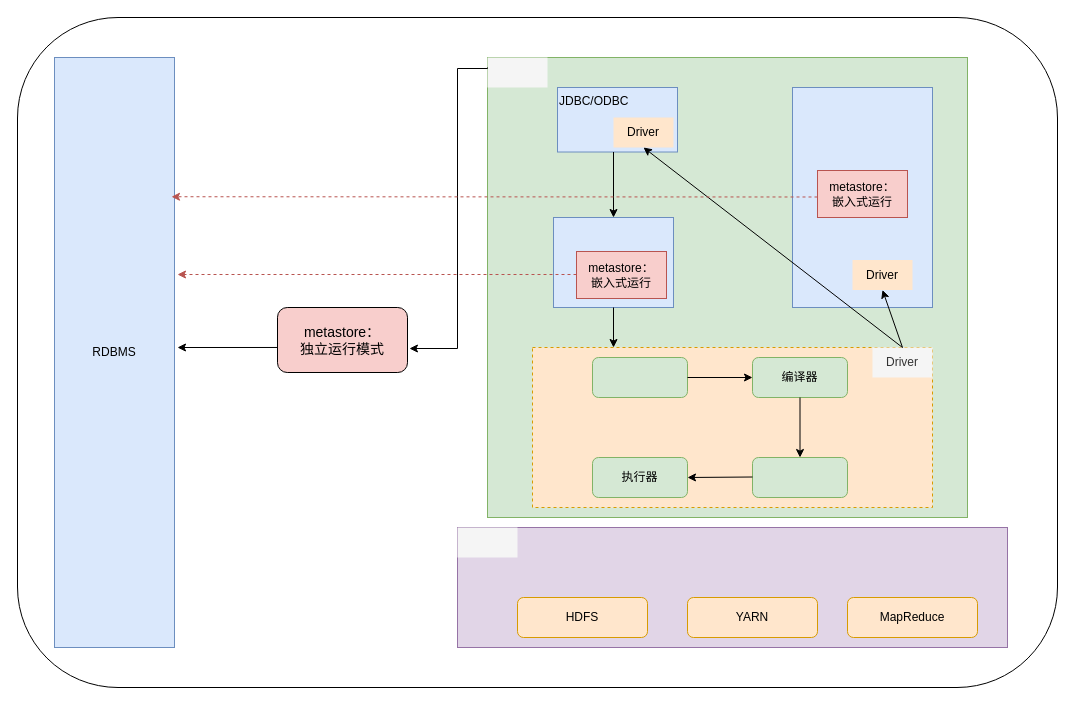
The diagram is 1075 pixels wide and 705 high, and some of its shapes have lost their labels. Each missing label, with the box of its shape:
CLI: (792, 86, 932, 308)
Client: (487, 57, 547, 87)
Hadoop: (457, 527, 517, 557)
hiveserver2: (552, 216, 674, 308)
优化器: (752, 456, 848, 498)
解析器: (592, 356, 688, 398)
